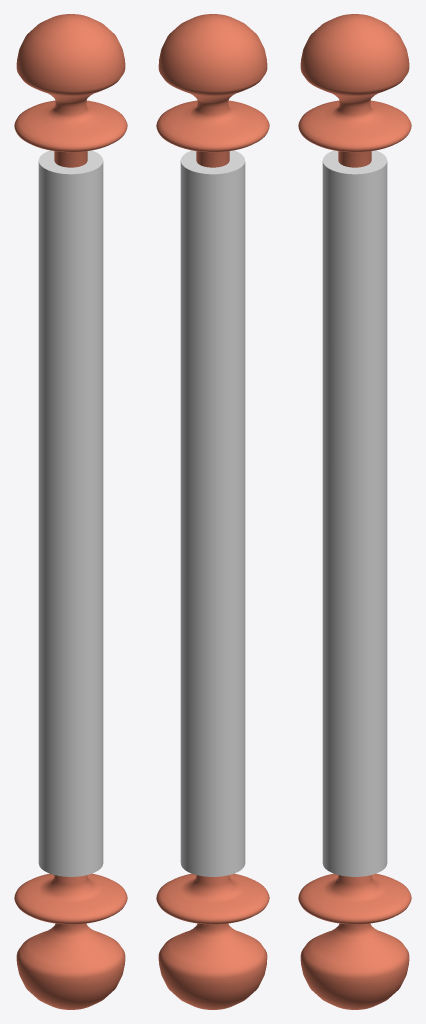
The model's file is MapHandle.fbx.
The picture shows the model from 3 angles, left to right: view 1: azimuth 90°, elevation 25°; view 2: azimuth 210°, elevation 25°; view 3: azimuth 270°, elevation 25°; orthographic projection.
Visible parts, largest first — view 1: Paper, Pole; view 2: Paper, Pole; view 3: Paper, Pole.
Boxes of the visible parts, left/top/right/bottom form: Paper: left=38, top=150, right=103, bottom=876; Pole: left=14, top=14, right=127, bottom=1009; Paper: left=180, top=150, right=245, bottom=876; Pole: left=156, top=14, right=269, bottom=1009; Paper: left=322, top=150, right=387, bottom=876; Pole: left=298, top=14, right=411, bottom=1009.
Bounding box in the file's own units: 8.76 × 84.38 × 8.76.
